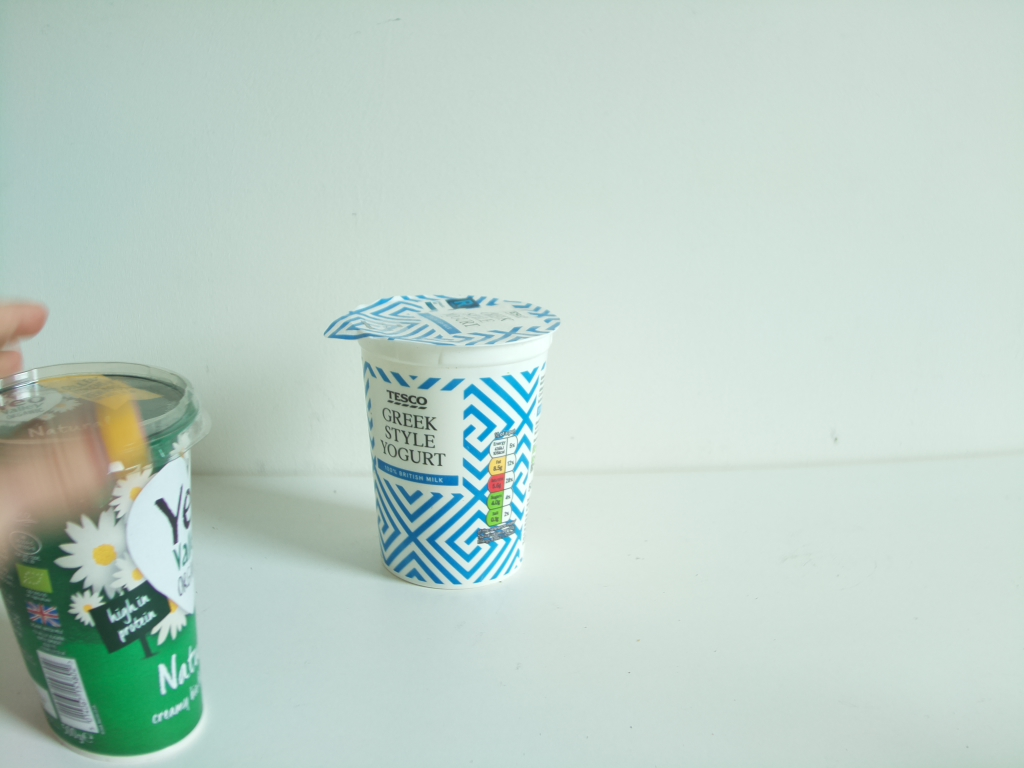yogurt: (1, 356, 222, 763), (322, 291, 568, 591)
